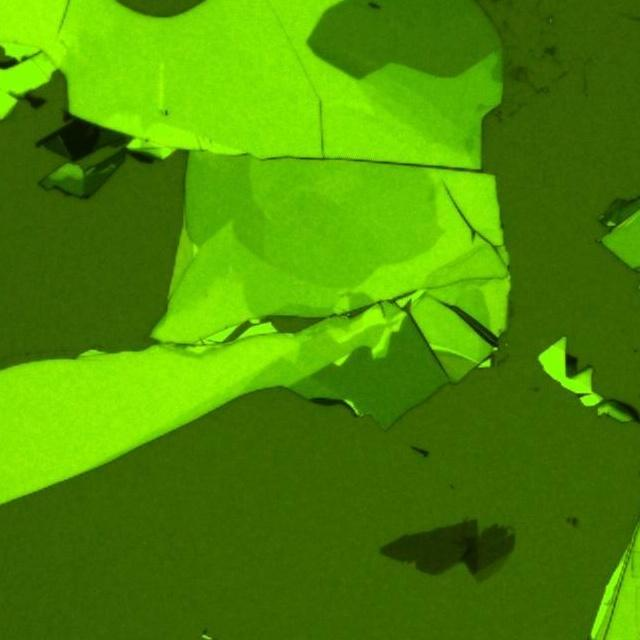monolayer-eWW4: (474, 551, 509, 587)
